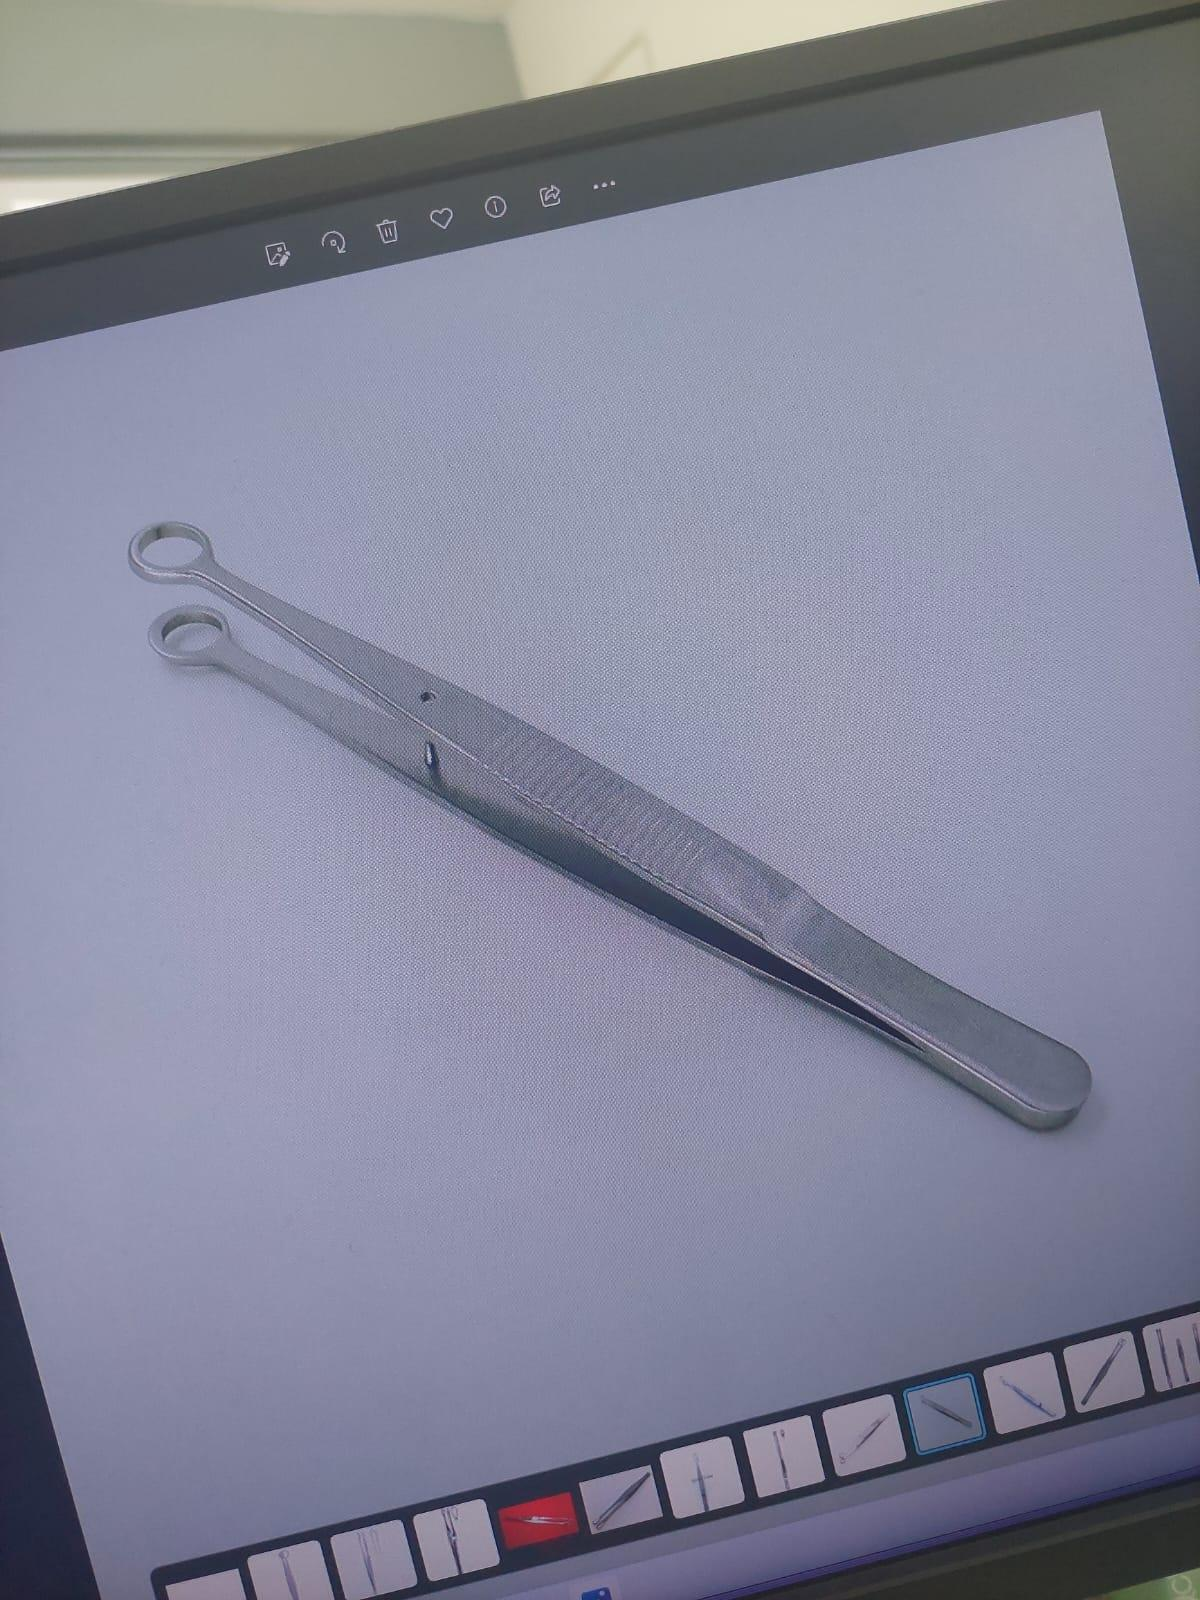Eye Intestinal Forceps: (125, 488, 1121, 1148)
